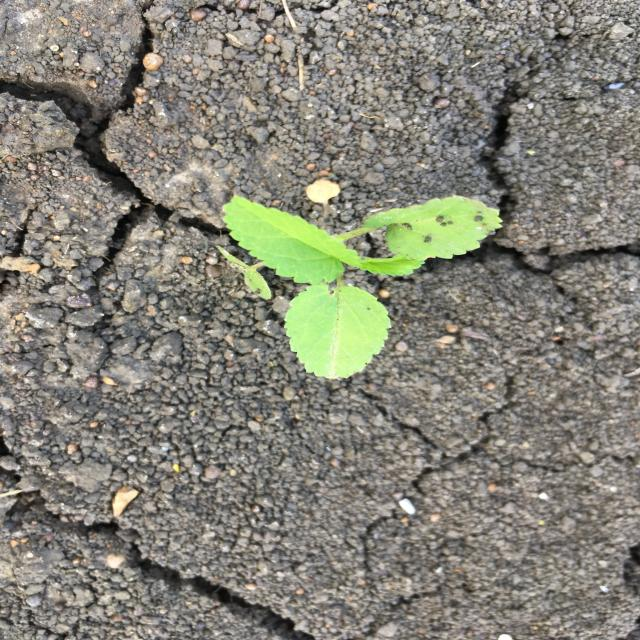PricklySida: (213, 193, 505, 383)
